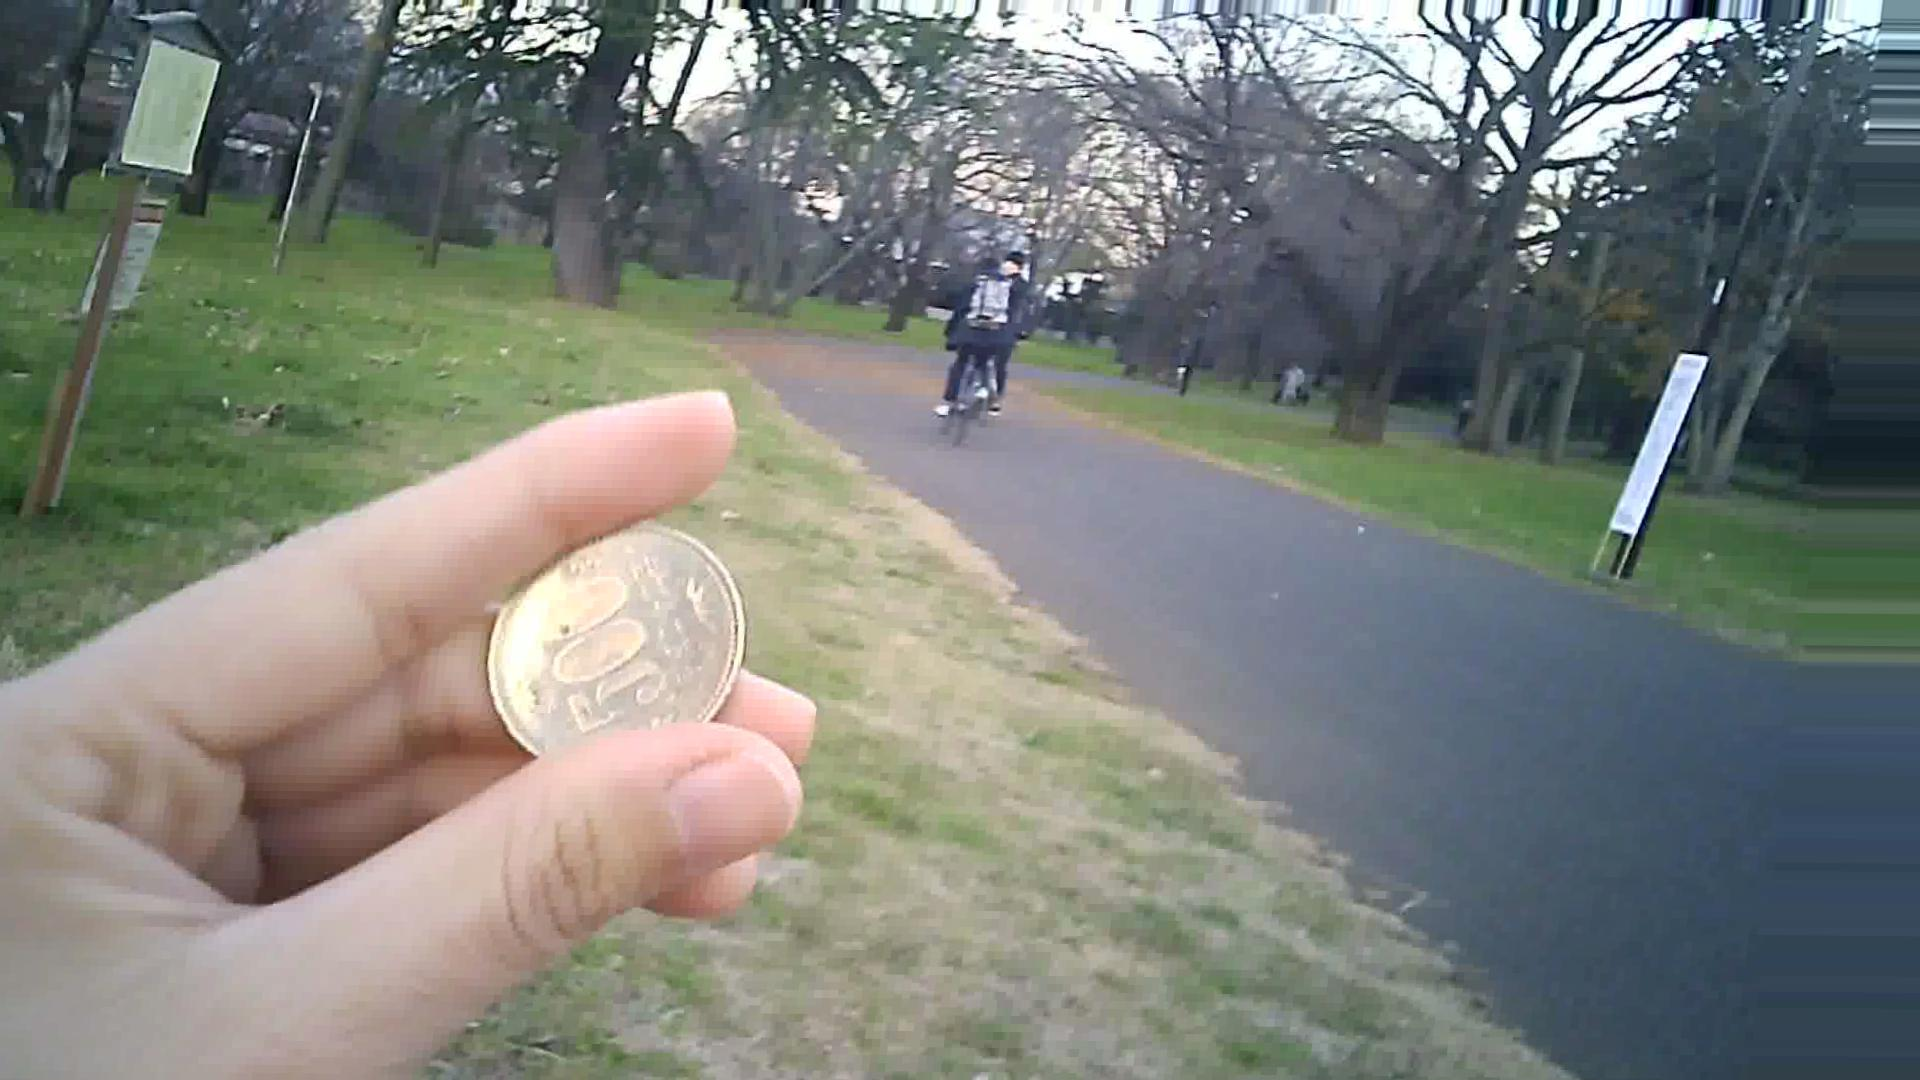500 Yen: (479, 496, 746, 770)
